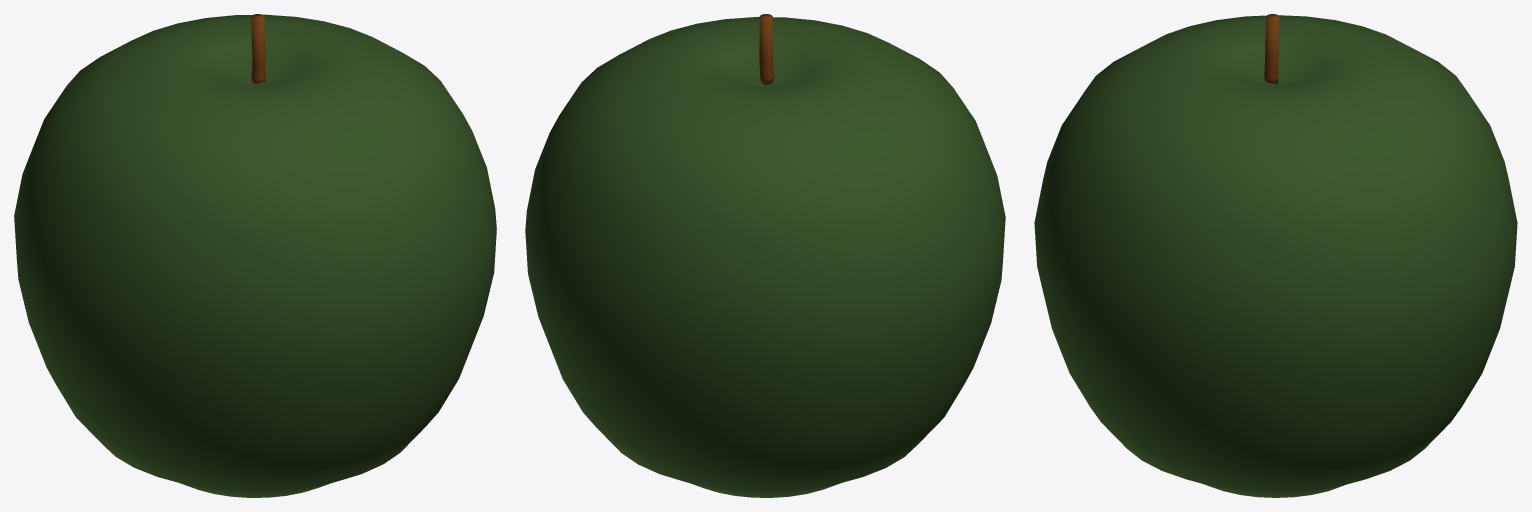
Rendered from GreenApple.fbx.
3 renders of one model, left to right at view 1: azimuth 30°, elevation 25°; view 2: azimuth 150°, elevation 25°; view 3: azimuth 270°, elevation 25°, orthographic.
Parts seen in each view (by area): view 1: Sphere, Cylinder; view 2: Sphere, Cylinder; view 3: Sphere, Cylinder.
Boxes of the visible parts, x1,y1,x2,y2 form: Sphere: [14, 14, 496, 497]; Cylinder: [251, 14, 265, 83]; Sphere: [525, 17, 1005, 497]; Cylinder: [759, 14, 774, 85]; Sphere: [1034, 15, 1517, 497]; Cylinder: [1264, 14, 1279, 83].
Size of the model in its own units: 196 by 199 by 196.
